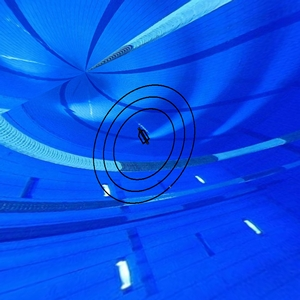circle: (91, 80, 200, 209)
submarine: (136, 126, 154, 151)
